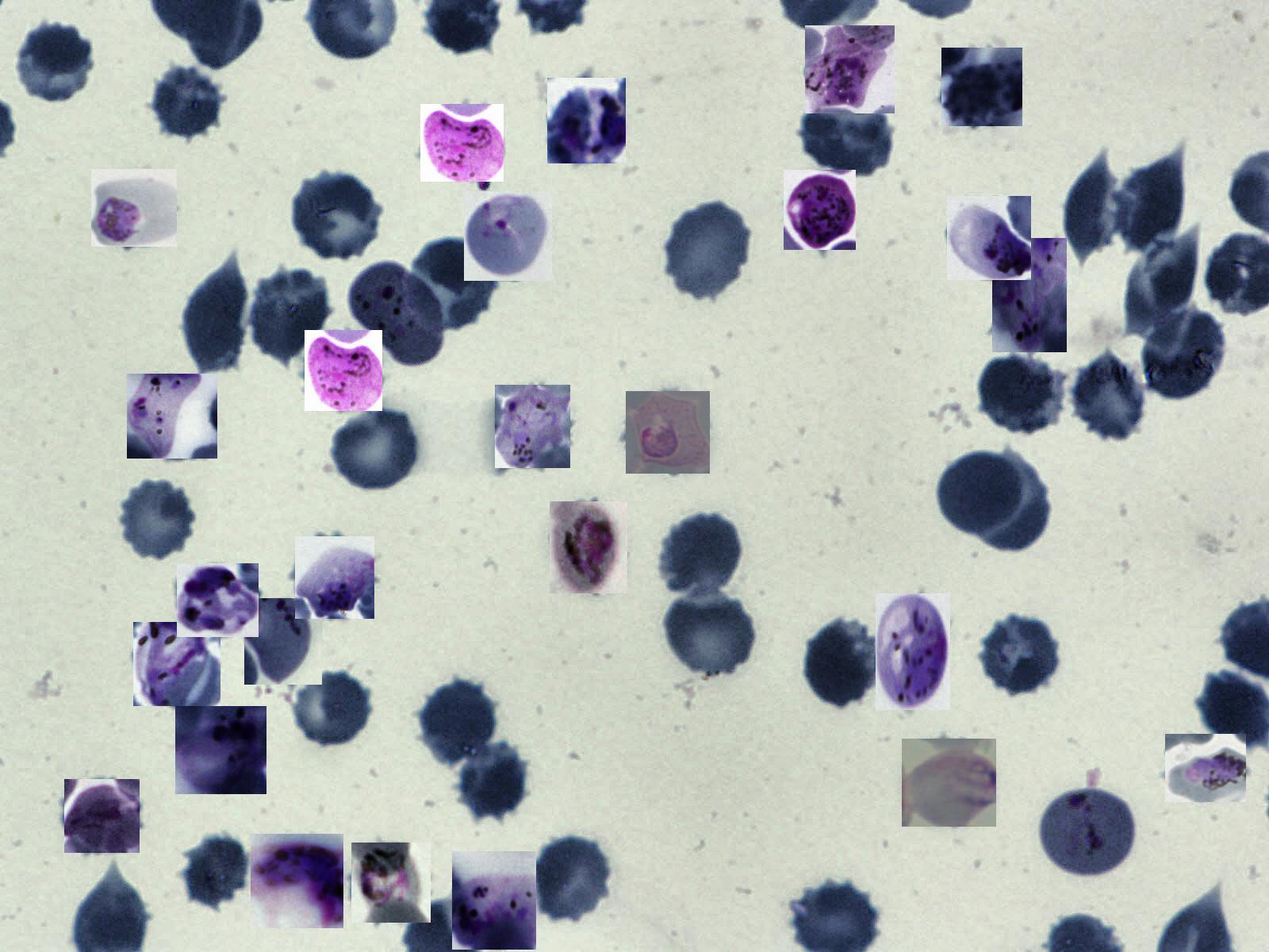Infected: (345, 259, 445, 365), (1039, 785, 1138, 880), (876, 593, 950, 710), (251, 834, 343, 928), (992, 238, 1067, 352), (452, 851, 536, 950), (902, 739, 996, 827), (175, 707, 266, 795), (805, 25, 895, 113), (464, 191, 552, 281), (127, 374, 217, 459), (133, 622, 220, 706), (550, 501, 627, 593), (947, 196, 1031, 280), (626, 391, 710, 474), (244, 598, 322, 685), (547, 78, 626, 163), (91, 169, 177, 247), (295, 536, 374, 619), (420, 104, 504, 182), (351, 843, 431, 923), (941, 48, 1022, 126), (305, 330, 382, 411), (495, 385, 570, 468), (177, 563, 259, 637), (784, 170, 856, 250), (64, 779, 140, 853), (1165, 734, 1246, 802)
Uninfected: (1123, 225, 1201, 354), (664, 198, 753, 299), (287, 170, 382, 262), (246, 268, 332, 369), (661, 589, 757, 679), (328, 407, 425, 493), (969, 460, 1055, 556), (182, 257, 250, 378), (408, 235, 499, 325), (1114, 144, 1188, 254), (1141, 309, 1230, 399), (799, 92, 894, 176), (659, 511, 744, 597), (937, 447, 1021, 534), (531, 835, 613, 923), (115, 476, 197, 562), (802, 620, 881, 708), (290, 667, 374, 748), (978, 355, 1063, 435), (1071, 356, 1149, 441), (420, 678, 496, 765), (980, 614, 1060, 696), (17, 21, 95, 104), (1062, 152, 1121, 261), (180, 831, 252, 911), (151, 63, 226, 138), (457, 743, 529, 821)
